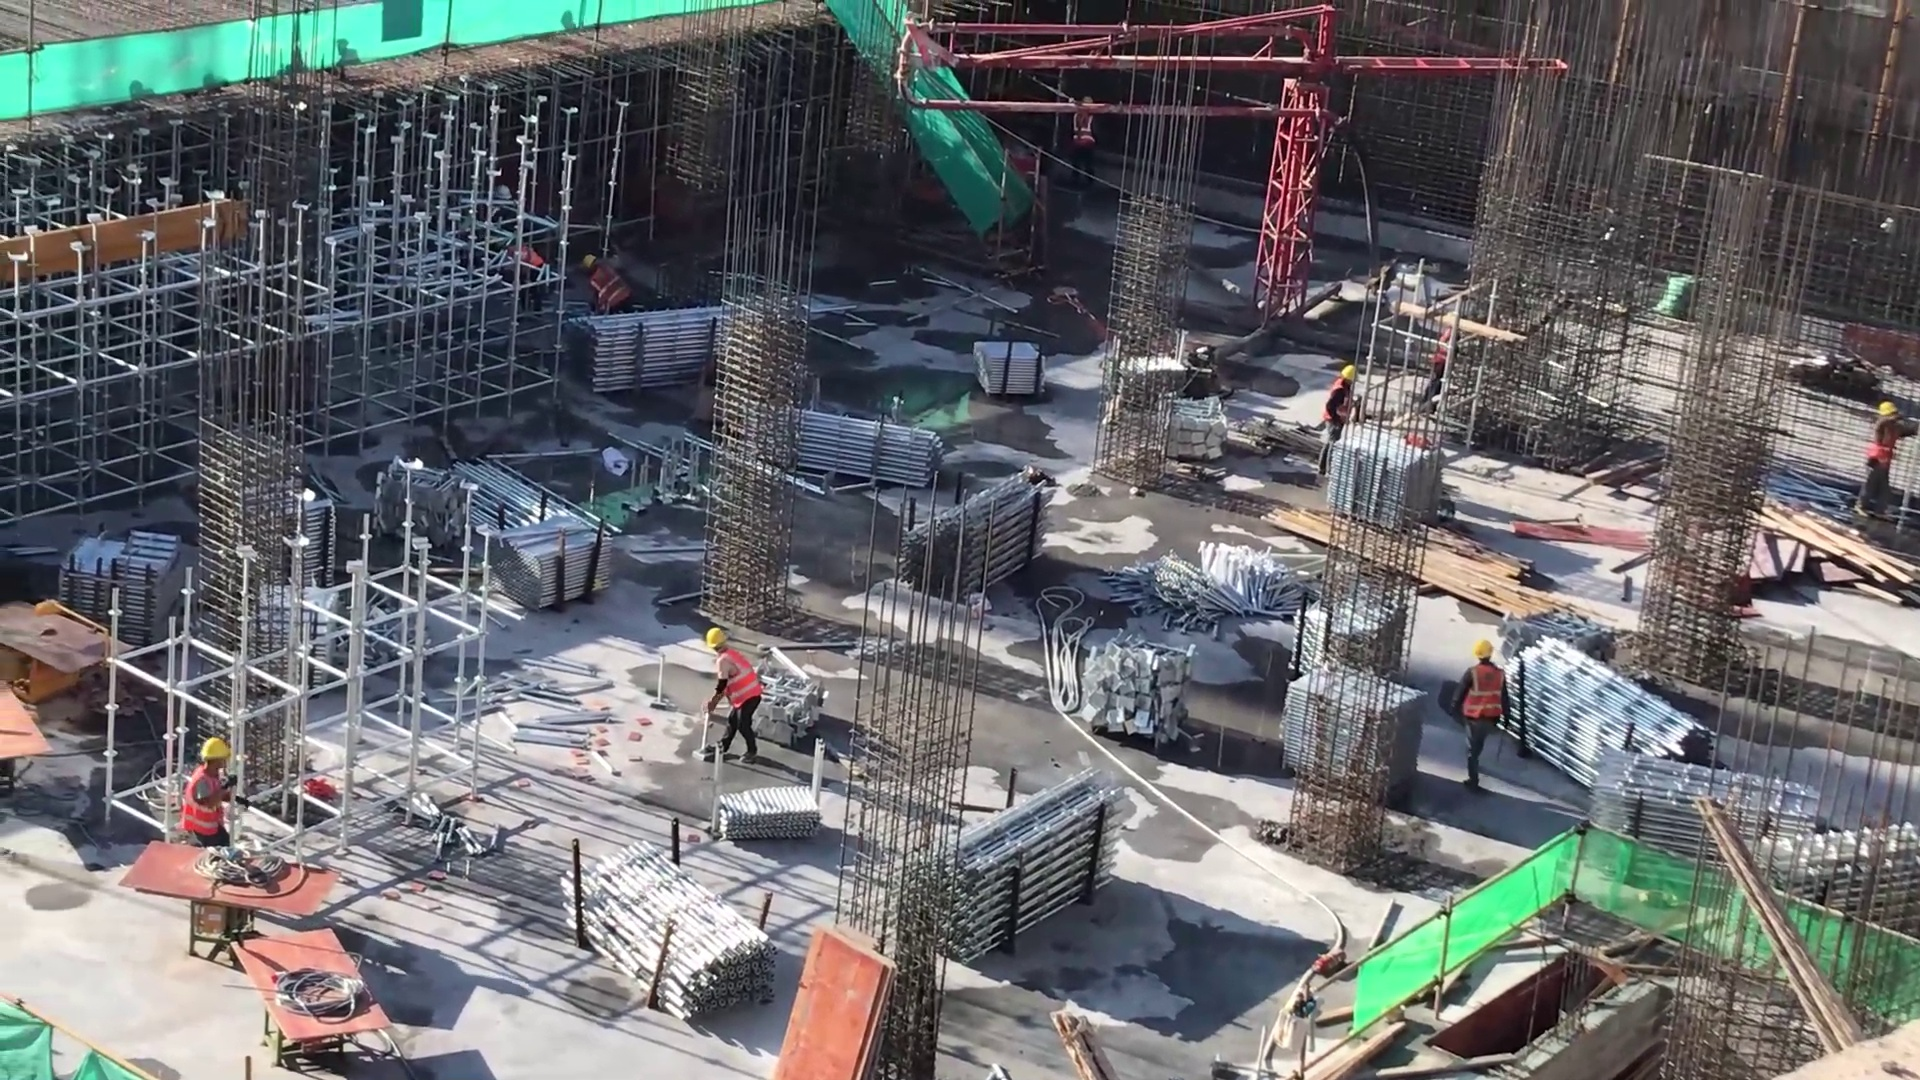board: (770, 908, 912, 1080)
helmet: (712, 651, 768, 724), (179, 767, 228, 847), (1459, 659, 1514, 725), (583, 264, 635, 314), (1866, 422, 1903, 480), (1320, 381, 1365, 422), (1072, 111, 1100, 151), (705, 627, 734, 655), (201, 736, 231, 764), (1338, 367, 1364, 390), (1877, 401, 1900, 425), (1469, 641, 1498, 660), (1074, 92, 1097, 109), (581, 250, 599, 272)
person: (1450, 636, 1520, 801), (704, 620, 770, 779), (1859, 397, 1916, 522), (184, 724, 236, 861), (1316, 365, 1370, 487), (1065, 94, 1113, 197), (579, 248, 644, 313), (511, 229, 551, 301)
scaffold: (909, 759, 1130, 966), (559, 839, 783, 1038), (1590, 741, 1826, 930), (1497, 638, 1729, 809), (1758, 826, 1920, 1005), (897, 456, 1058, 610), (559, 298, 780, 394), (52, 521, 187, 660), (445, 451, 622, 555), (768, 394, 937, 503), (498, 499, 619, 619), (1317, 427, 1442, 531), (716, 782, 838, 838)
